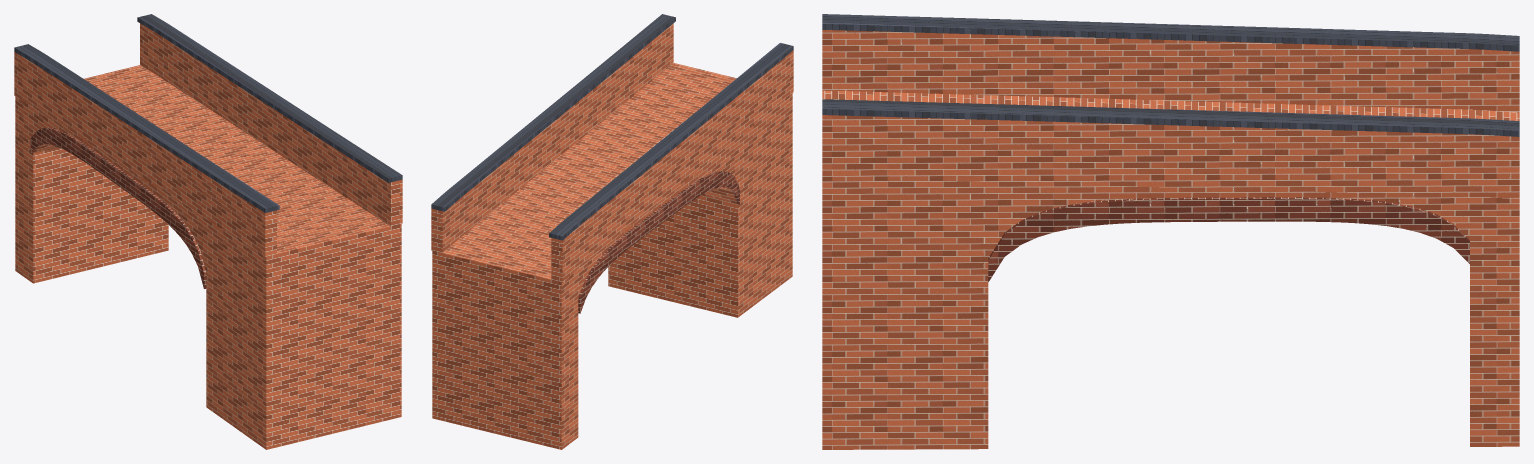
File: bridge-6.glb
3 views of the same model, side by side, from view 1: azimuth 30°, elevation 25°; view 2: azimuth 150°, elevation 25°; view 3: azimuth 270°, elevation 25° (orthographic). The views are drawn at different scales.
Parts seen in each view (by area): view 1: Masonry, Parapet.001, ArchRing; view 2: Masonry, Parapet.001, ArchRing; view 3: Masonry, Parapet.001, ArchRing.
Part boxes in pixels (bbox=[...]): Masonry: bbox=[14, 23, 402, 449]; Parapet.001: bbox=[14, 14, 402, 212]; ArchRing: bbox=[30, 128, 206, 289]; Masonry: bbox=[431, 23, 793, 449]; Parapet.001: bbox=[431, 14, 793, 240]; ArchRing: bbox=[578, 171, 739, 313]; Masonry: bbox=[822, 30, 1519, 449]; Parapet.001: bbox=[822, 14, 1519, 136]; ArchRing: bbox=[988, 197, 1469, 281].
Size of the model in its own units: 4.23 by 6.81 by 12.6.
3 materials, 3 textured.
